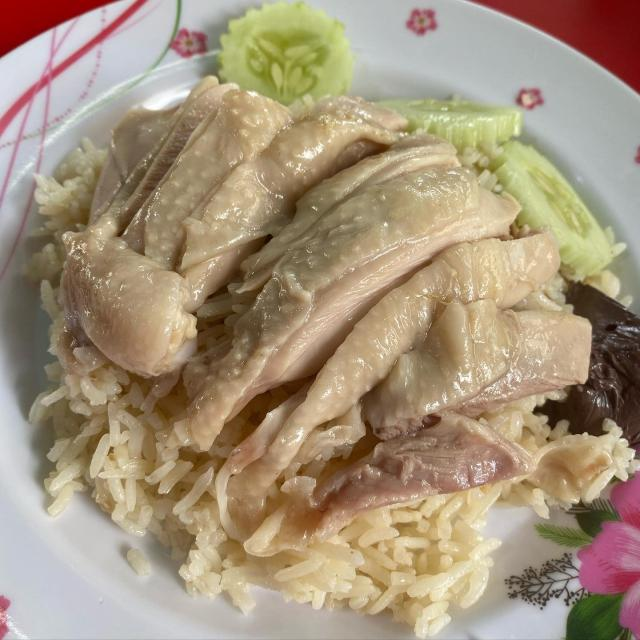Hainanese chicken rice: (52, 57, 603, 592)
carb: (37, 385, 491, 633)
meat: (121, 84, 538, 481)
vegetable: (517, 144, 621, 252), (230, 24, 338, 100)
